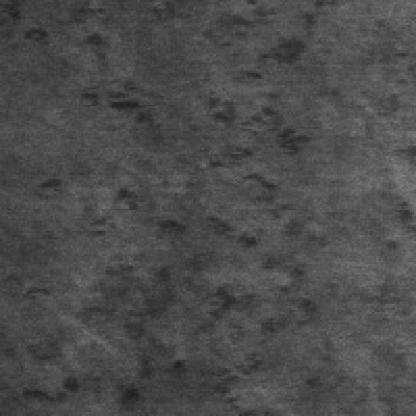rolled-in_scale: (10, 164, 285, 412), (65, 63, 314, 218)
